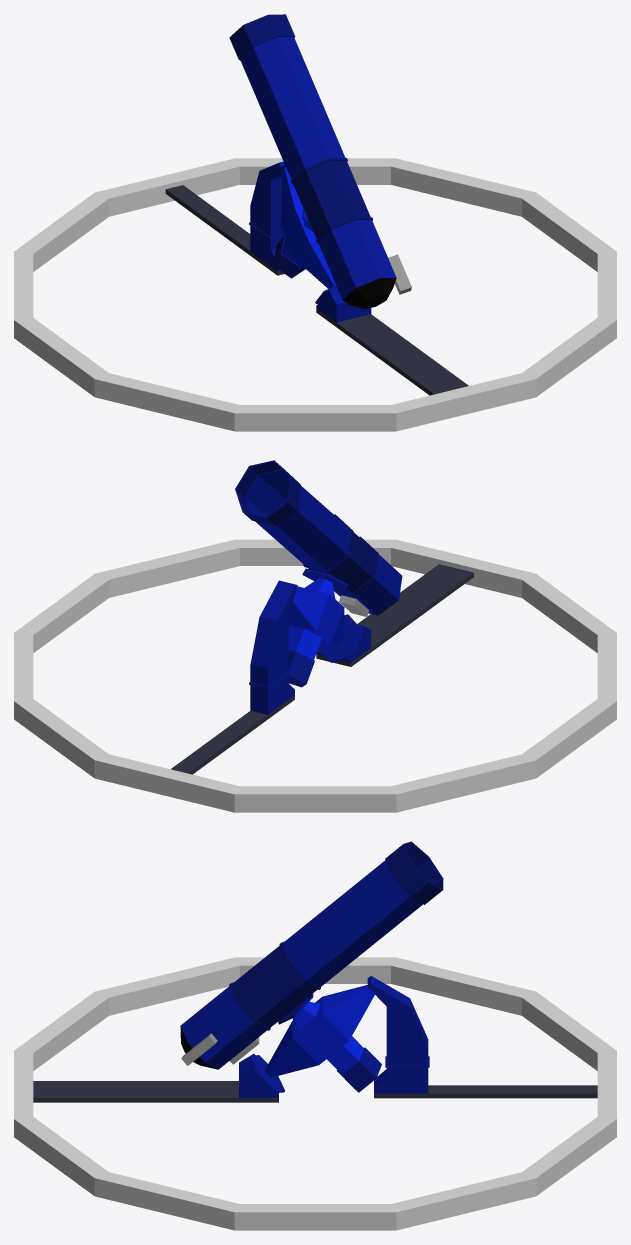
The model's file is Big telescope.fbx.
3 views of the same model, one above another, from view 1: azimuth 30°, elevation 25°; view 2: azimuth 150°, elevation 25°; view 3: azimuth 270°, elevation 25° (orthographic).
Parts seen in each view (by area): view 1: Base, Body, Telescope, Center_support; view 2: Base, Body, Telescope, Center_support; view 3: Base, Body, Telescope, Center_support.
Part boxes in pixels (box(x1,y1,x2,y2)): Base: box(14, 158, 616, 431); Body: box(229, 14, 411, 309); Telescope: box(165, 161, 468, 395); Center_support: box(272, 167, 336, 303); Base: box(14, 539, 616, 812); Body: box(235, 460, 402, 616); Telescope: box(171, 564, 473, 774); Center_support: box(288, 578, 363, 687); Base: box(14, 957, 616, 1230); Body: box(180, 841, 443, 1069); Telescope: box(33, 976, 597, 1102); Center_support: box(249, 985, 381, 1092).
Bounding box in the file's own units: 1198 × 565 × 1198.
